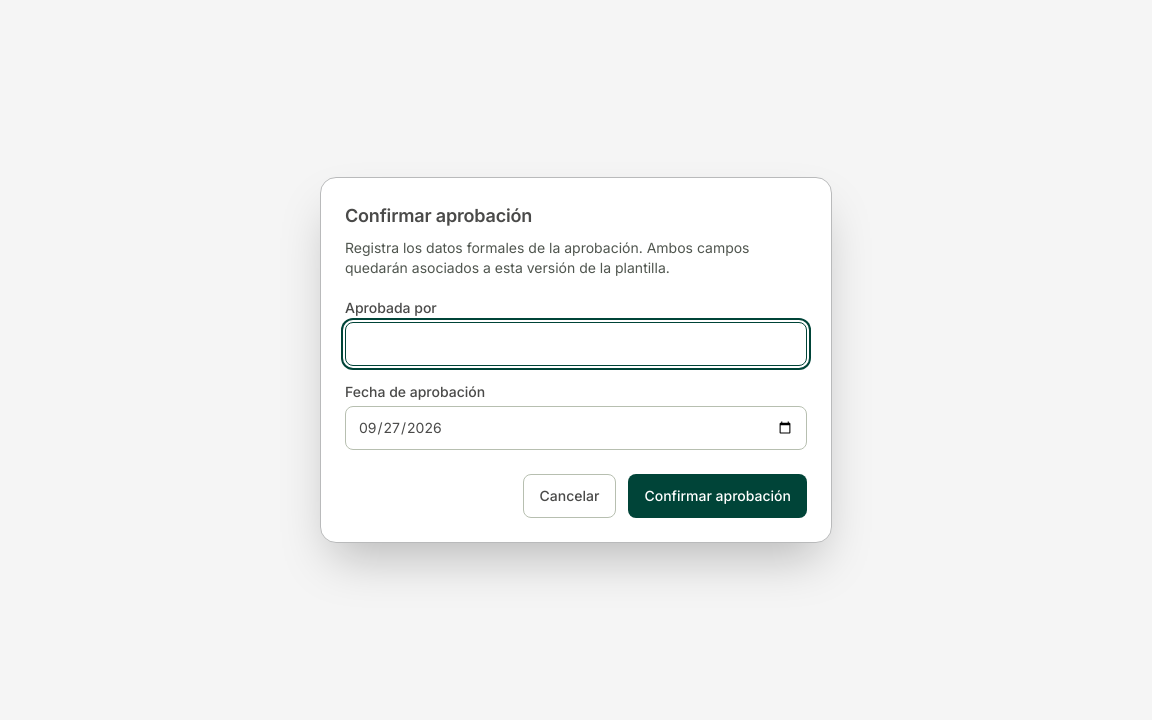
Test: TemplateApprovalDialog › rechaza y enfoca una fecha de aprobación futura
In the field labelled "Aprobada por": (576, 344) [345, 322, 807, 366], type "Comité Legal ARGA"
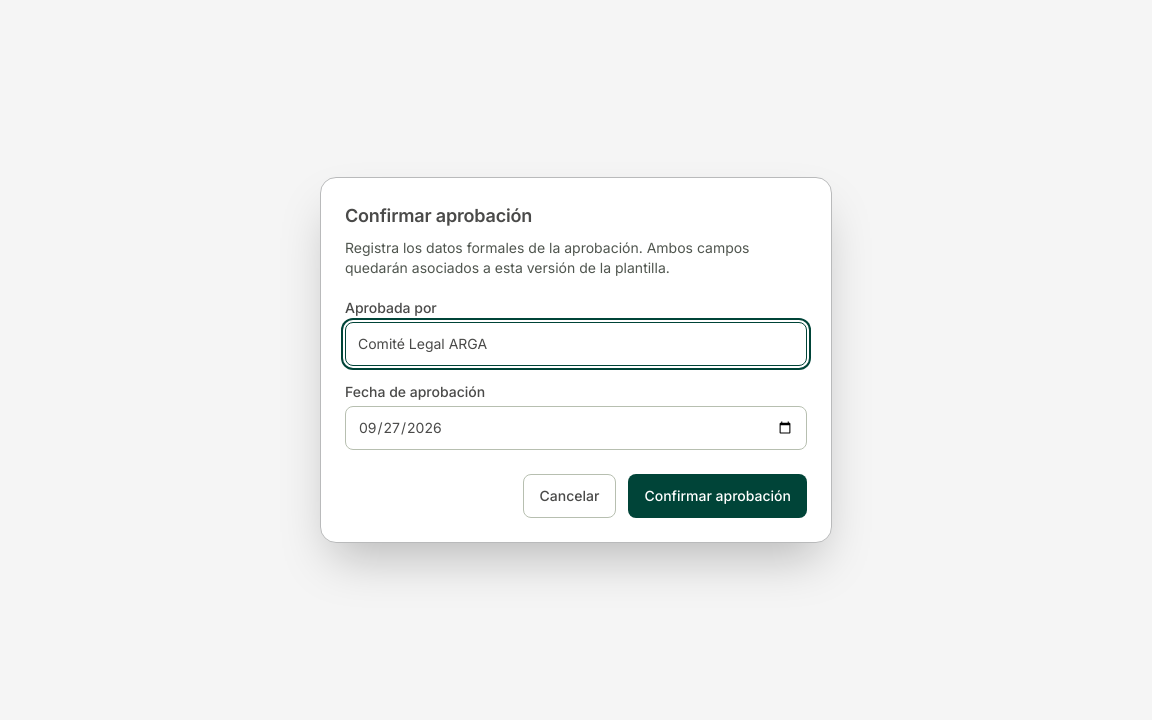
In the date field labelled "Fecha de aprobación": (576, 428) [345, 406, 807, 450], type "2999-01-01"
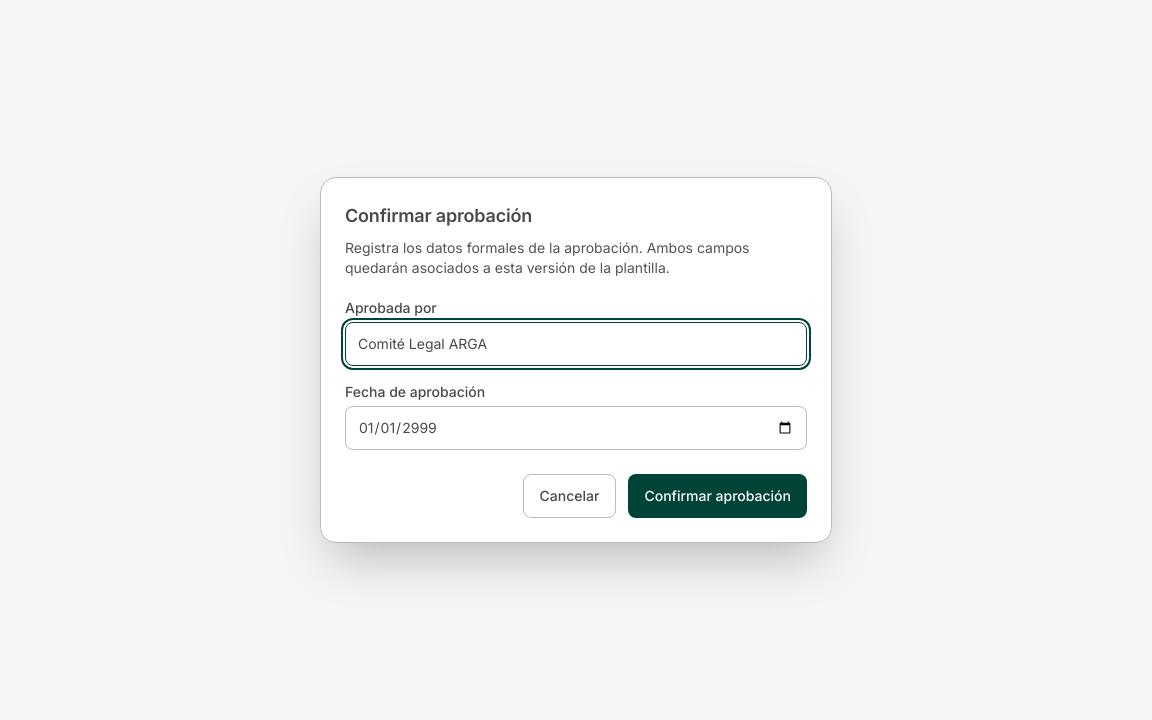
Click the button "Confirmar aprobación": (718, 496) [628, 474, 807, 518]
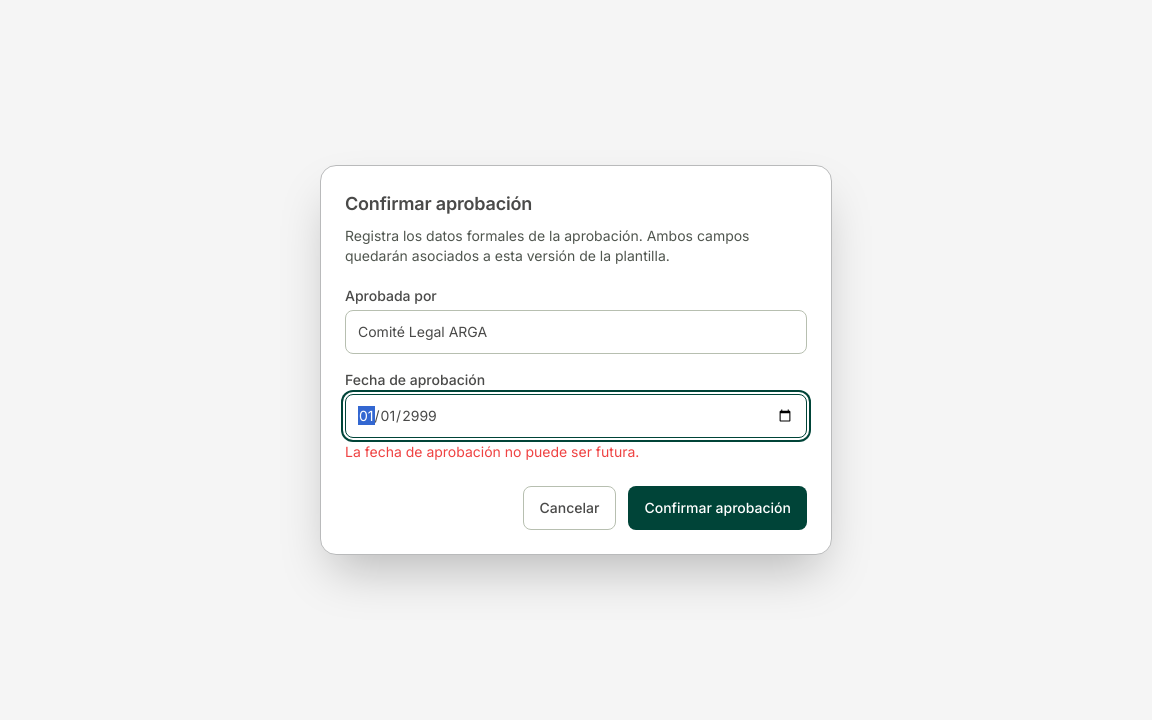
Expected: the message reads "La fecha de aprobación no puede ser futura.", [345, 443, 639, 460]
